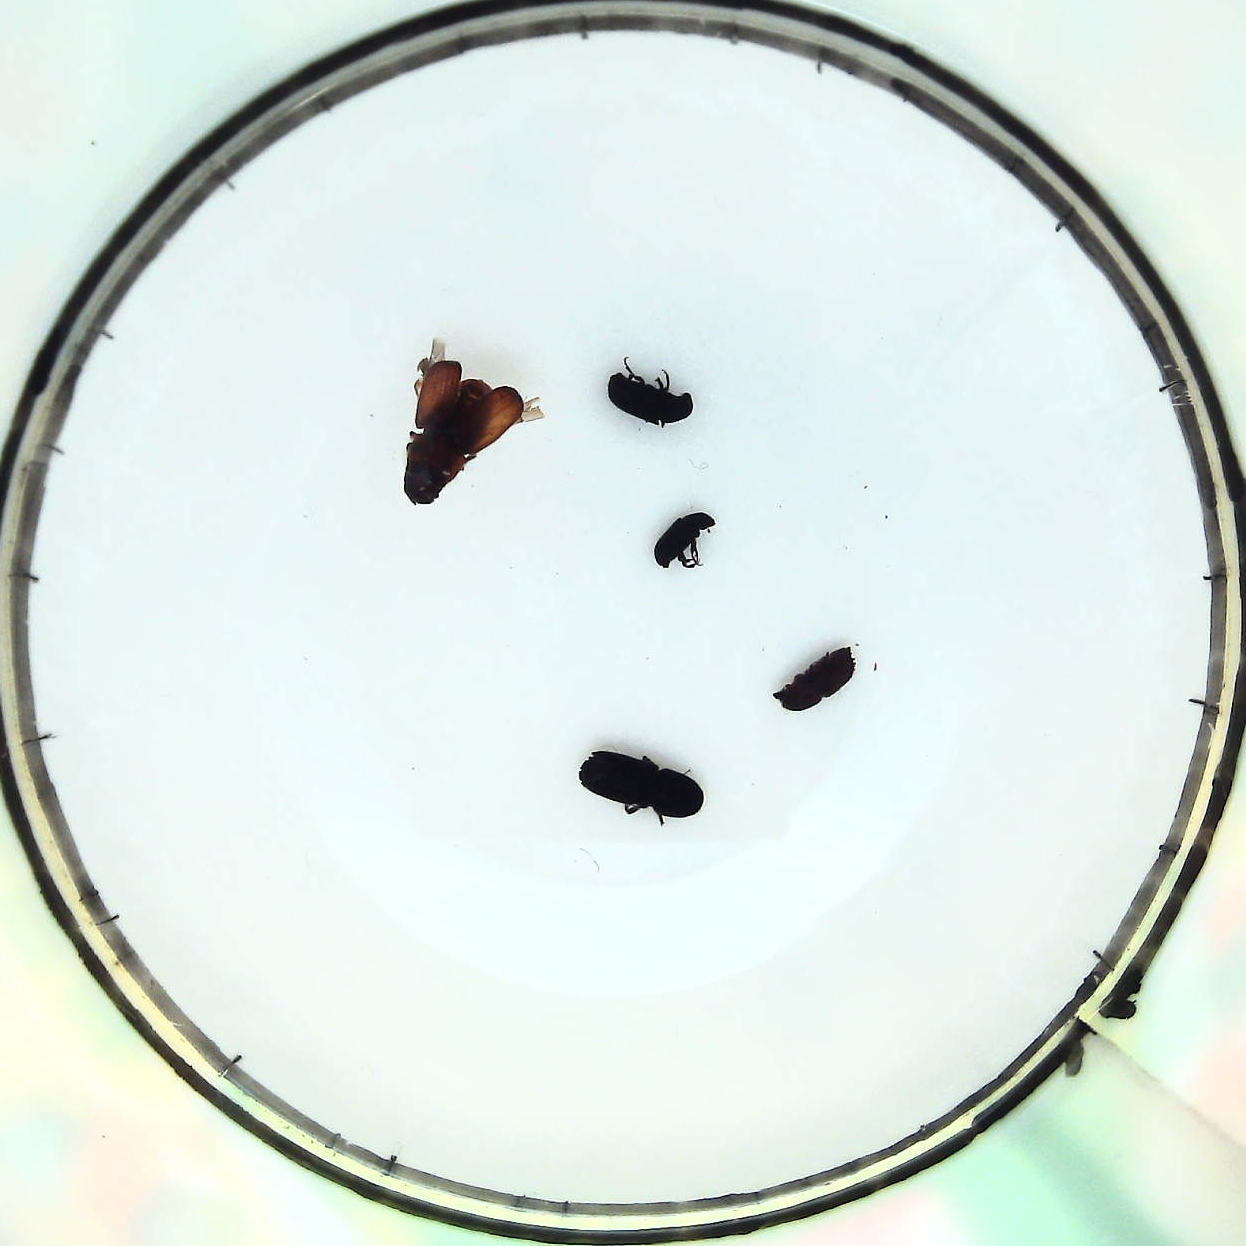Boerner: (581, 747, 710, 825)
Leconte: (408, 351, 529, 517)
Linnaeus: (776, 647, 853, 707)
armandi: (610, 364, 688, 432)
coleoptera: (652, 508, 712, 569)
